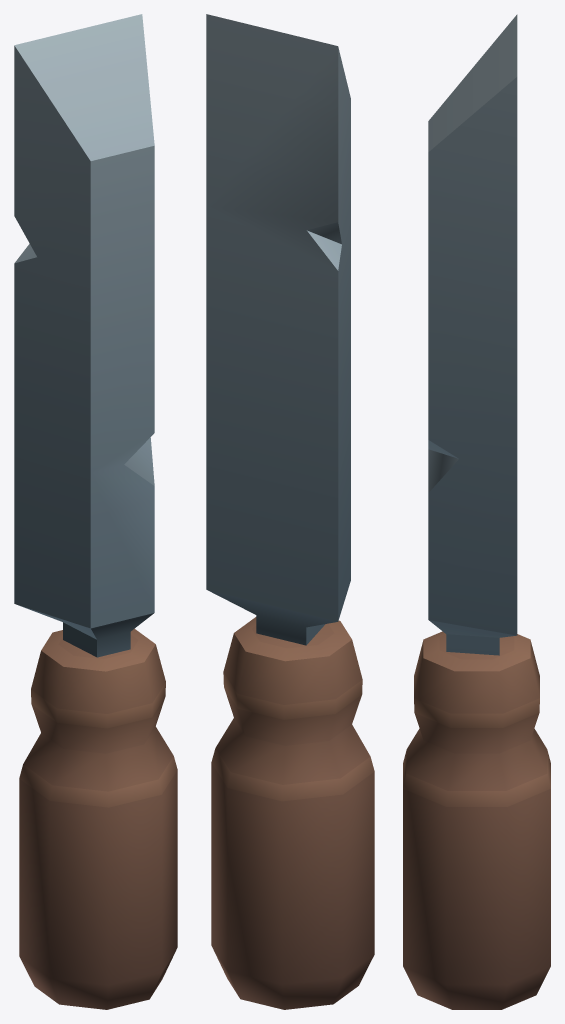
Rendered from chisel.glb.
3 views of the same model, side by side, from view 1: azimuth 30°, elevation 25°; view 2: azimuth 150°, elevation 25°; view 3: azimuth 270°, elevation 25° (orthographic). The views are drawn at different scales.
Visible parts, largest first — view 1: chisel; view 2: chisel; view 3: chisel.
Boxes of the visible parts, x1,y1,x2,y2 form: chisel: (14, 14, 177, 1009); chisel: (206, 14, 374, 1009); chisel: (403, 14, 550, 1009).
Size of the model in its own units: 0.0908 by 0.647 by 0.0907.
Materials: 1 (1 with a texture image).
